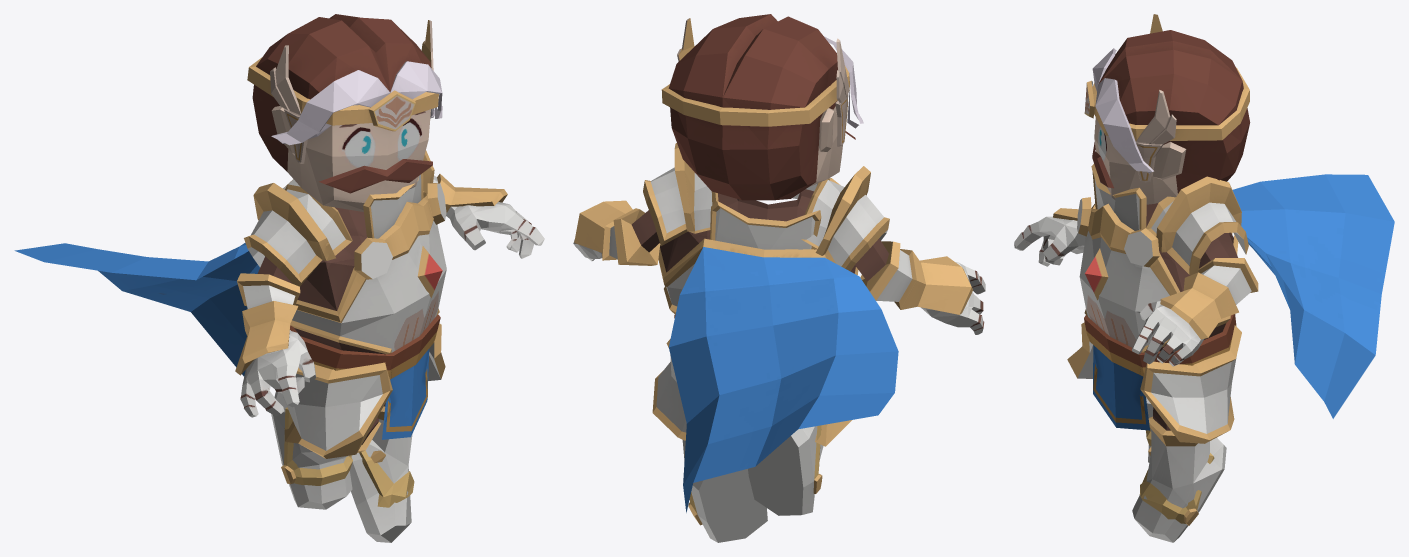
The model's file is SK_Lowpoly_38.gltf.
The picture shows the model from 3 angles, left to right: view 1: azimuth 30°, elevation 25°; view 2: azimuth 150°, elevation 25°; view 3: azimuth 270°, elevation 25°; orthographic projection. The views are drawn at different scales.
Parts seen in each view (by area): view 1: SK_Lowpoly_Male_038_Pose_90_StaticMeshComponent0; view 2: SK_Lowpoly_Male_038_Pose_90_StaticMeshComponent0; view 3: SK_Lowpoly_Male_038_Pose_90_StaticMeshComponent0.
Part boxes in pixels (x1,y1,x2,y2): SK_Lowpoly_Male_038_Pose_90_StaticMeshComponent0: (14, 14, 544, 542); SK_Lowpoly_Male_038_Pose_90_StaticMeshComponent0: (573, 14, 985, 542); SK_Lowpoly_Male_038_Pose_90_StaticMeshComponent0: (1014, 14, 1394, 542).
Bounding box in the file's own units: 1.29 × 1.57 × 1.13.
1 material, 1 textured.
